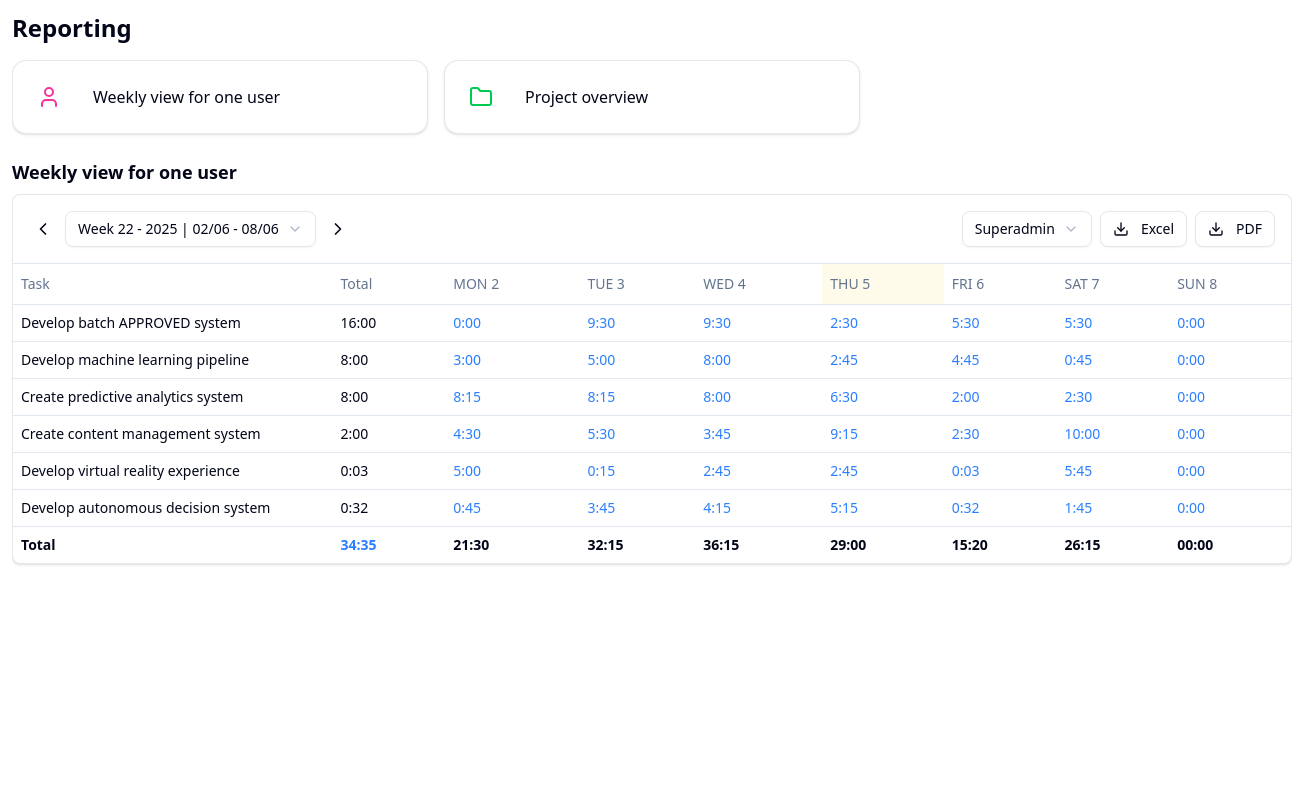
it: Reporting Page › View report for a specified user
Check: the heading "Reporting" is shown, box [12,11,132,44]
Check: the heading "Weekly view for one user" is shown, box [12,160,237,184]
Step 1. Click the dropdown labelled "Superadmin" → coordinates (1027, 229), box [962,211,1092,247]
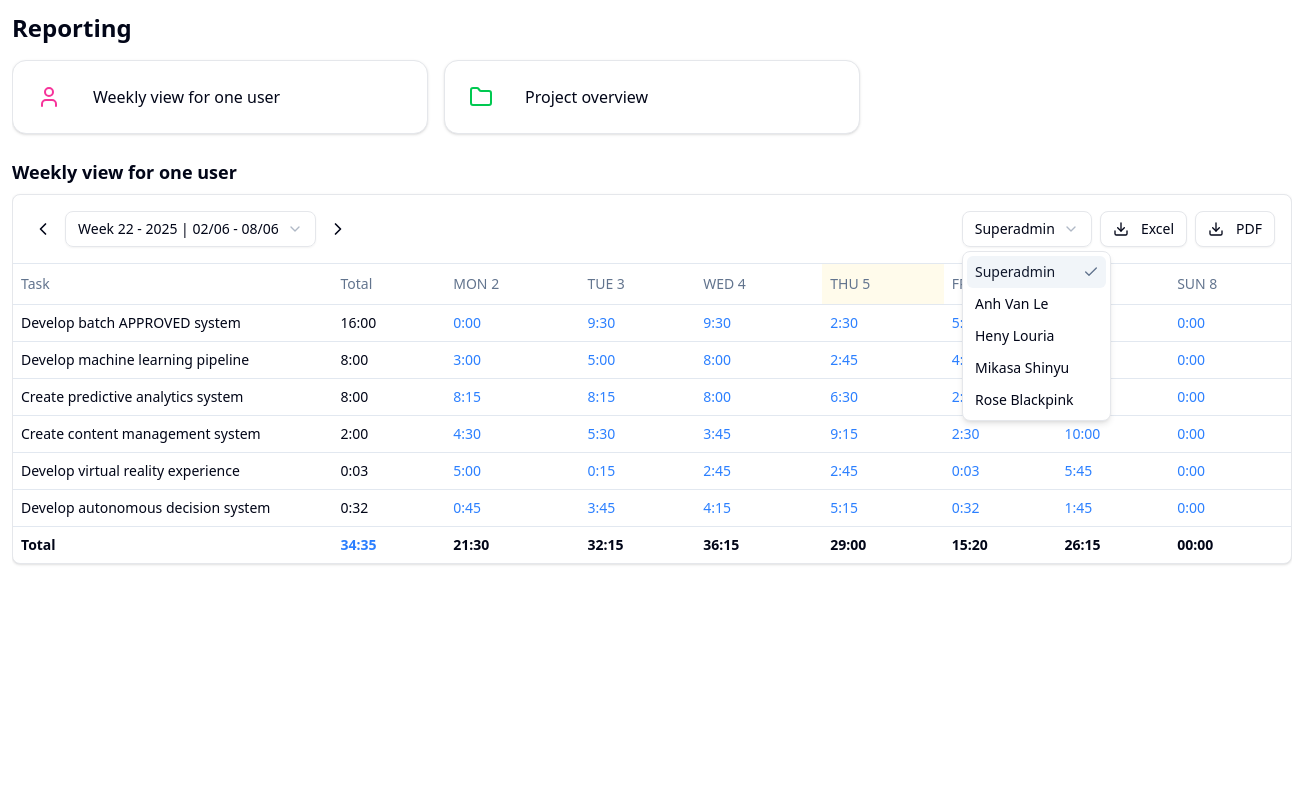
Step 2. Click the option "Heny Louria" → coordinates (1015, 336), box [975,326,1054,345]
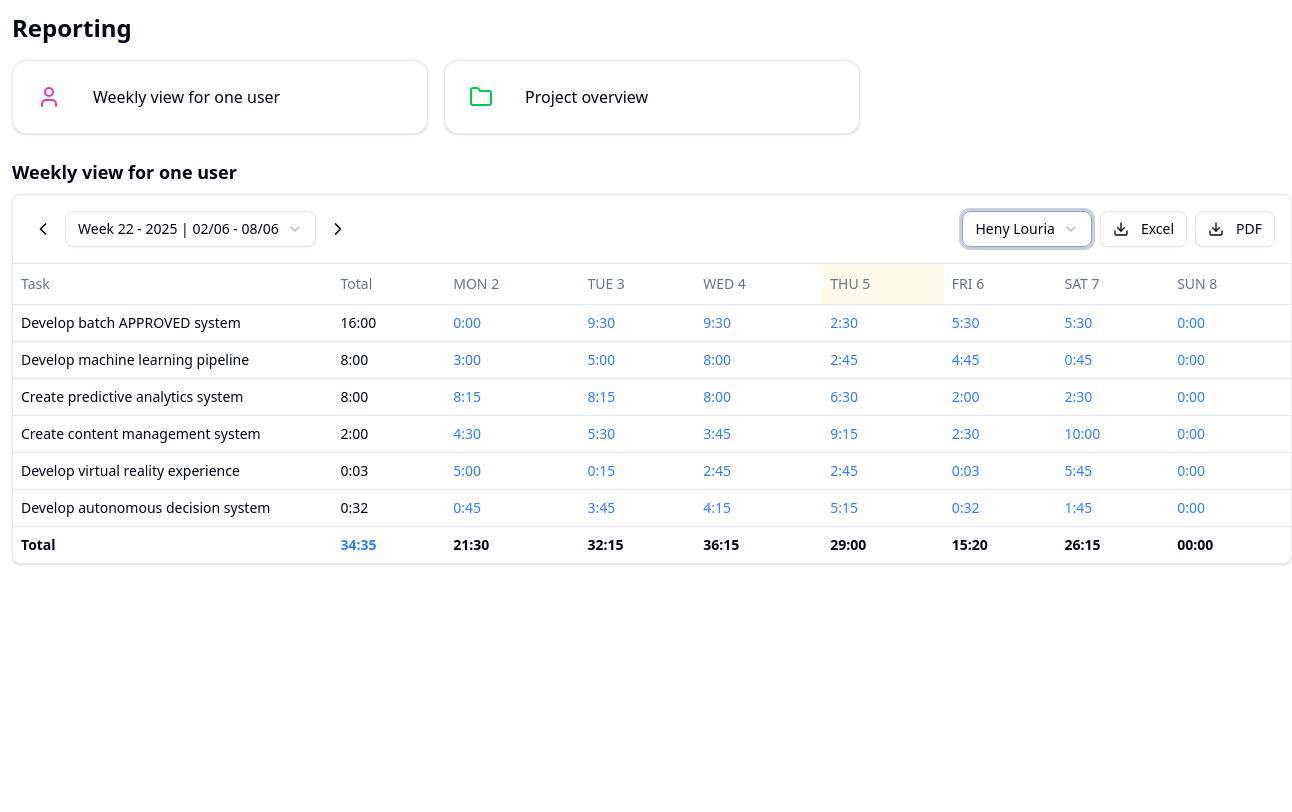
Check: the dropdown labelled "Heny Louria" is shown, box [962,211,1092,247]
